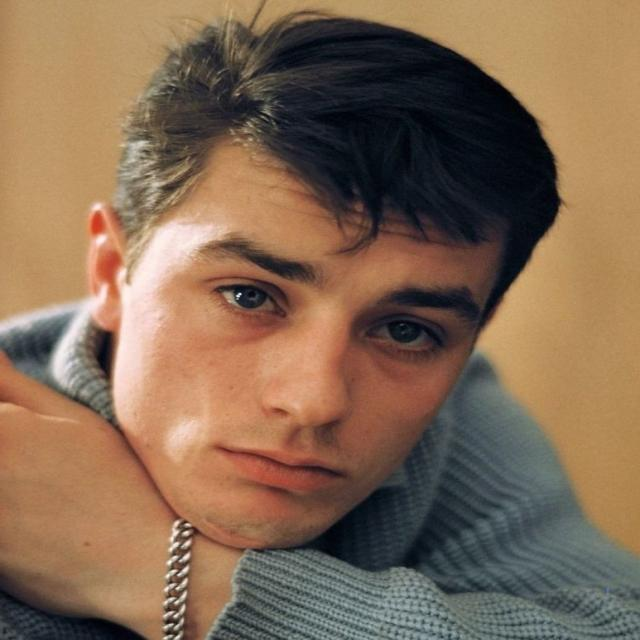earlobe: (84, 201, 125, 335)
